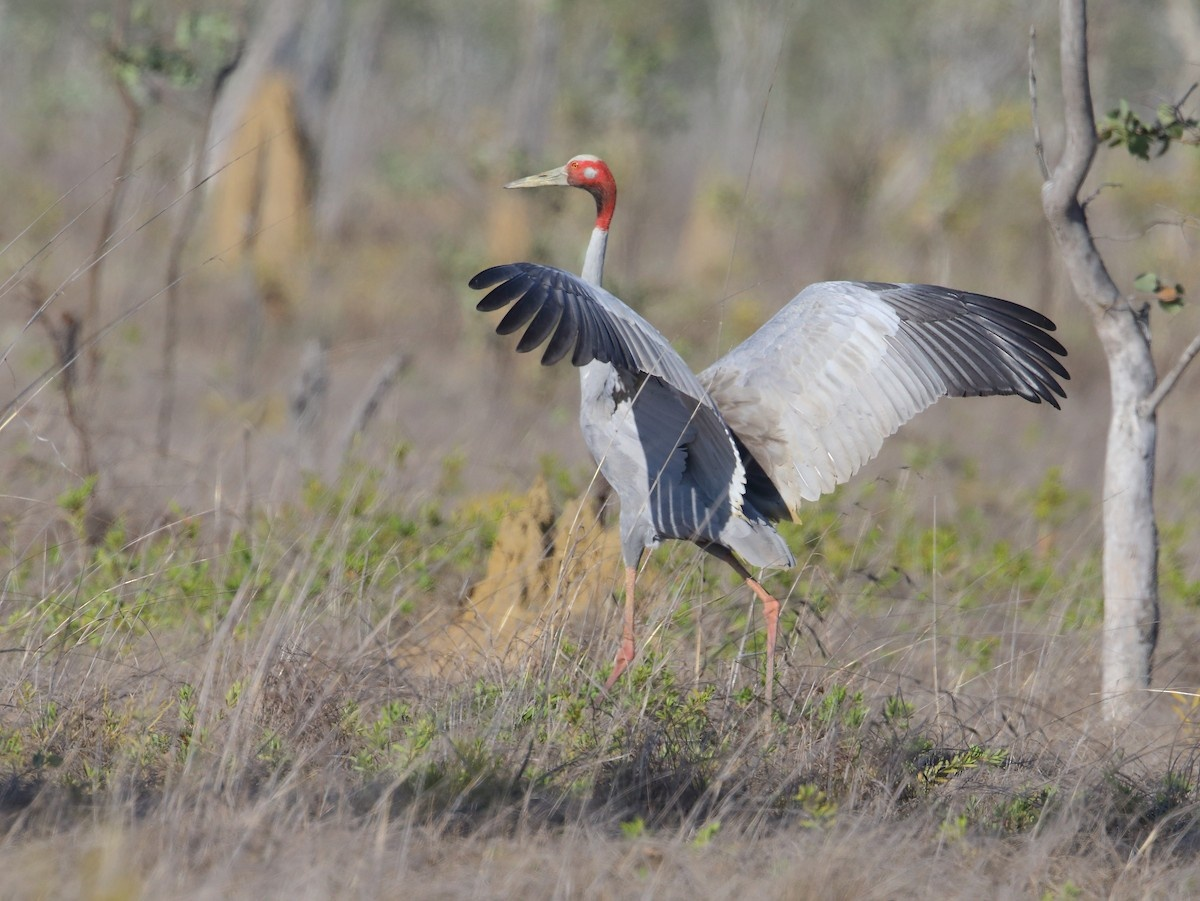crane: (490, 136, 1081, 674)
